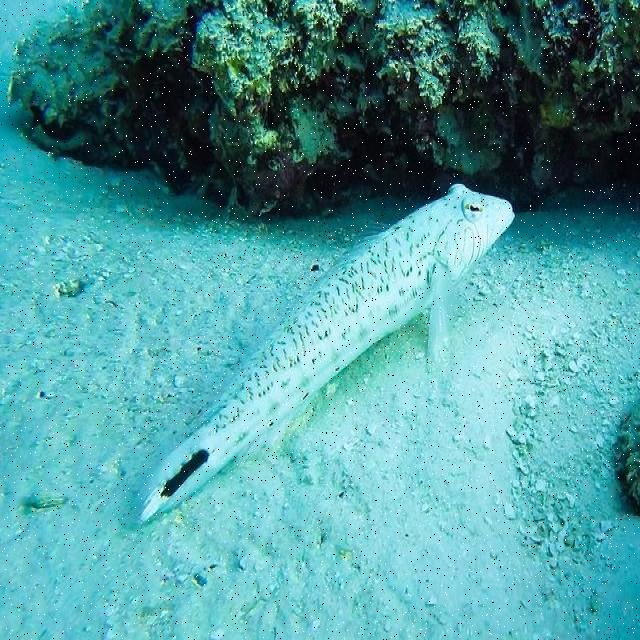fish: (138, 183, 515, 521)
